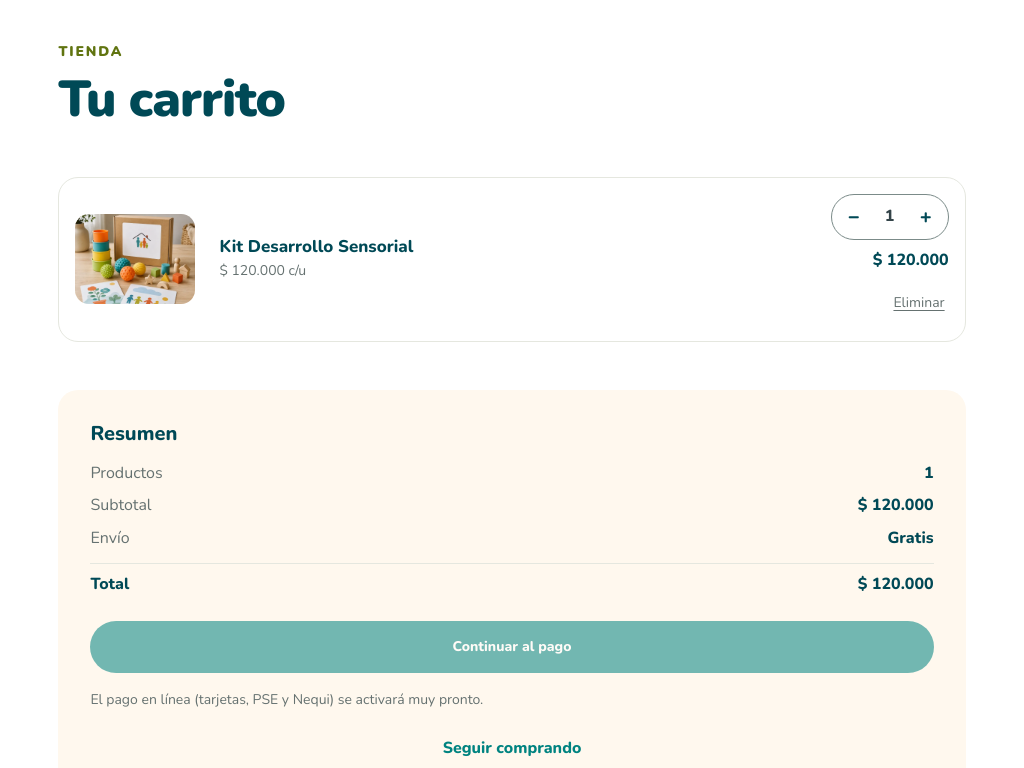
Test: CartComponent › shows server prices and updates them when quantities change
Click the button named "Añadir una unidad de Kit Desarrollo Sensorial" at (926, 217), box [904,195,948,239]
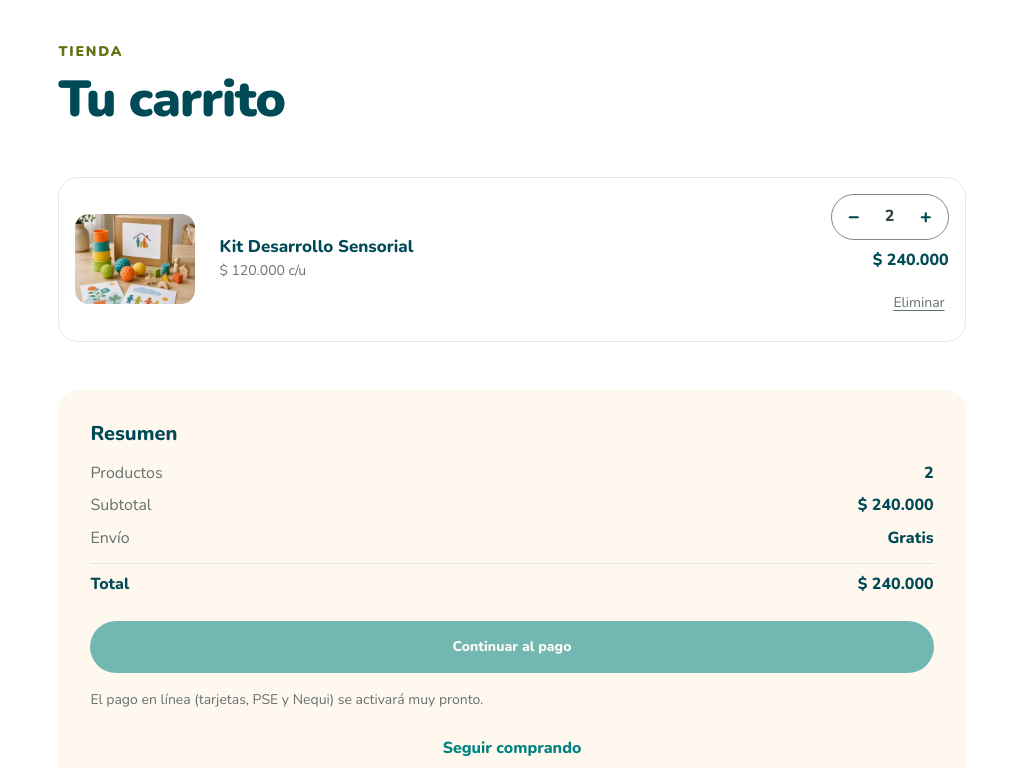
expect the element showing "Productos 2 Subtotal $ 240.000 Envío Gratis Total $ 240.000" is shown: met, box [90,461,934,597]
